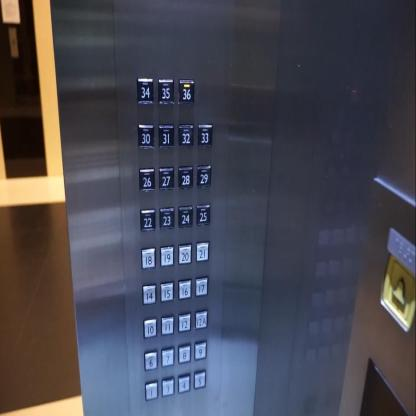1: (144, 378, 158, 402)
10: (143, 317, 157, 338)
11: (159, 312, 175, 337)
12: (177, 310, 191, 333)
12A: (193, 307, 208, 331)
14: (141, 282, 157, 306)
15: (159, 279, 174, 303)
16: (176, 276, 192, 300)
17: (193, 274, 209, 298)
18: (140, 245, 156, 269)
19: (158, 243, 174, 267)
20: (176, 241, 192, 265)
21: (194, 239, 210, 263)
22: (138, 206, 156, 232)
23: (158, 204, 175, 230)
24: (177, 204, 193, 228)
25: (196, 202, 210, 226)
26: (138, 166, 155, 192)
27: (157, 164, 175, 190)
28: (176, 164, 194, 190)
29: (196, 163, 212, 187)
3: (160, 376, 174, 397)
30: (136, 122, 155, 150)
31: (157, 121, 175, 149)
32: (177, 122, 194, 148)
33: (196, 121, 212, 148)
34: (135, 76, 154, 104)
35: (156, 76, 175, 105)
36: (178, 76, 194, 105)
4: (176, 372, 190, 393)
5: (192, 369, 206, 390)
6: (143, 349, 157, 371)
7: (160, 346, 174, 367)
8: (177, 342, 191, 364)
9: (193, 338, 207, 360)
